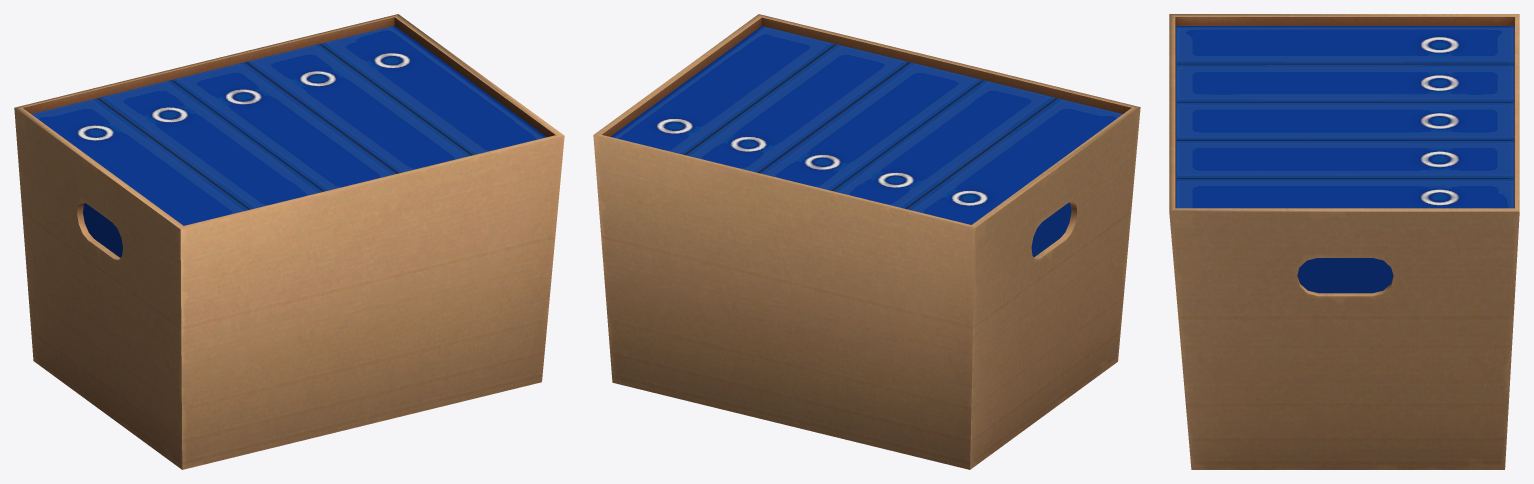
The model's file is OfficeBox01__2.fbx.
3 renders of one model, left to right at view 1: azimuth 30°, elevation 25°; view 2: azimuth 150°, elevation 25°; view 3: azimuth 270°, elevation 25°, orthographic. The views are drawn at different scales.
Parts seen in each view (by area): view 1: OfficeBox01A; view 2: OfficeBox01A; view 3: OfficeBox01A.
Boxes of the visible parts, x1,y1,x2,y2 form: OfficeBox01A: [14, 14, 564, 469]; OfficeBox01A: [593, 14, 1140, 469]; OfficeBox01A: [1169, 14, 1519, 469].
Size of the model in its own units: 0.4 by 0.25 by 0.3.
1 material, 1 textured.
